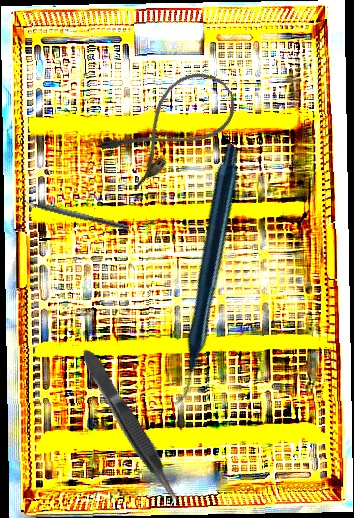Cannula: (95, 58, 247, 195)
Chopper: (16, 192, 132, 231)
Handpiece: (69, 141, 337, 406)
Tissue Forceps: (76, 343, 187, 511)
